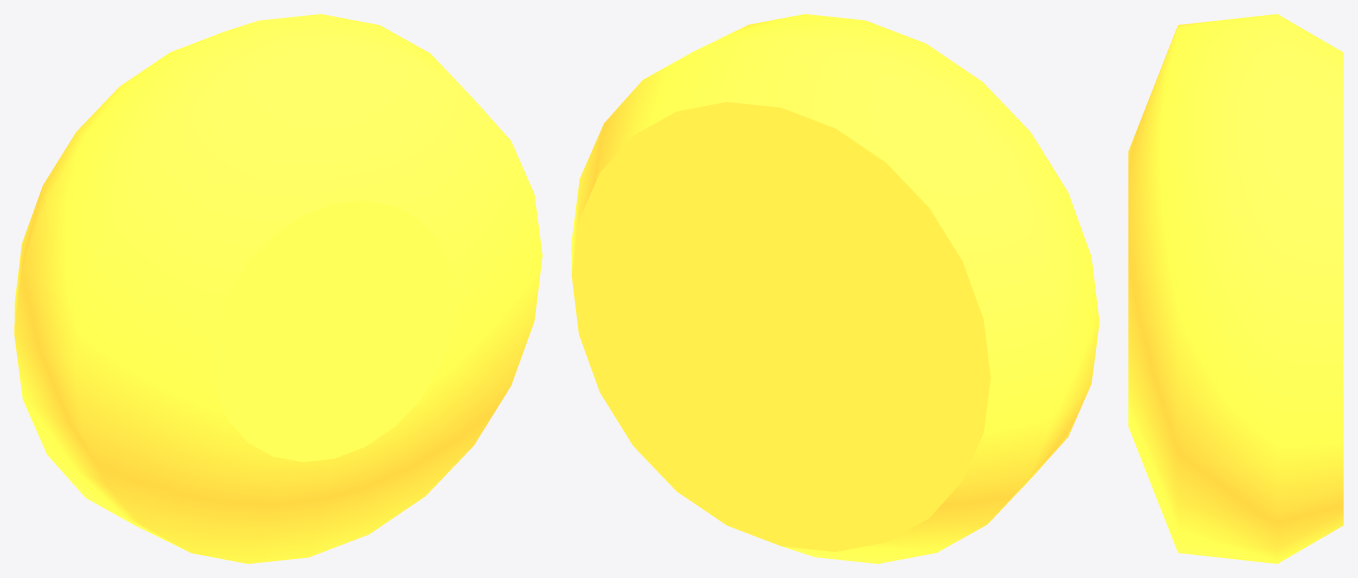
File: SM_Substation_StatusLamp.fbx
The picture shows the model from 3 angles, left to right: view 1: azimuth 30°, elevation 25°; view 2: azimuth 150°, elevation 25°; view 3: azimuth 270°, elevation 25°; orthographic projection.
Parts seen in each view (by area): view 1: SM_Substation_StatusLamp; view 2: SM_Substation_StatusLamp; view 3: SM_Substation_StatusLamp.
Part boxes in pixels (bbox=[...]): SM_Substation_StatusLamp: bbox=[14, 14, 542, 563]; SM_Substation_StatusLamp: bbox=[571, 14, 1099, 563]; SM_Substation_StatusLamp: bbox=[1128, 14, 1343, 563].
Bounding box in the file's own units: 0.1 × 0.039 × 0.1.
